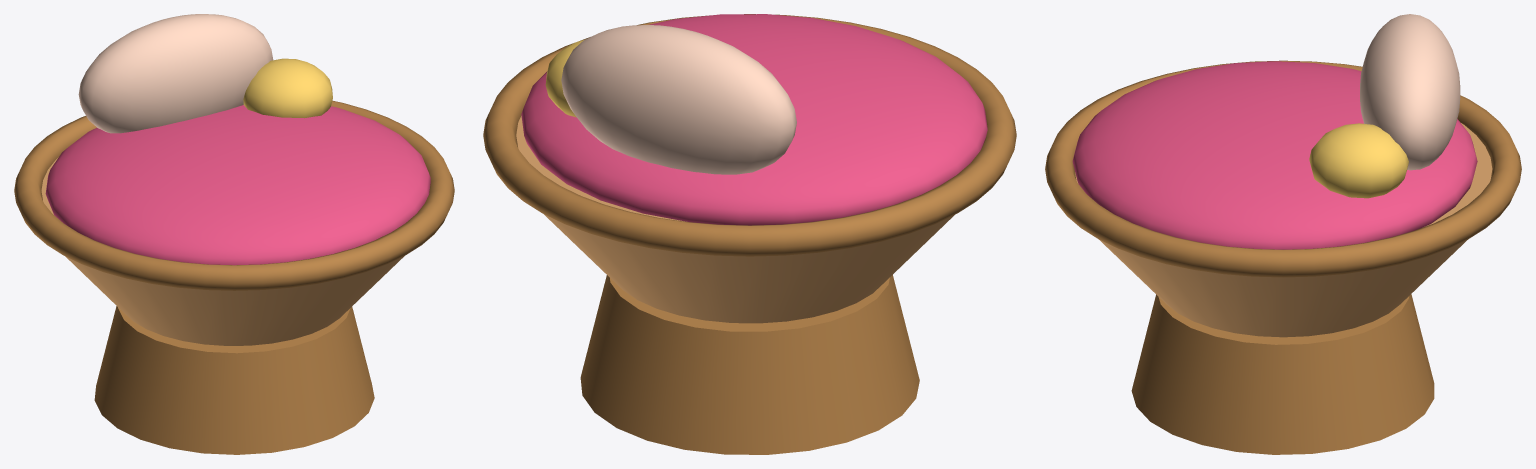
Rendered from armchair-papasan.glb.
3 renders of one model, left to right at view 1: azimuth 30°, elevation 25°; view 2: azimuth 150°, elevation 25°; view 3: azimuth 270°, elevation 25°, orthographic. The views are drawn at different scales.
Bounding box in the file's own units: 1.13 × 0.94 × 1.13.
